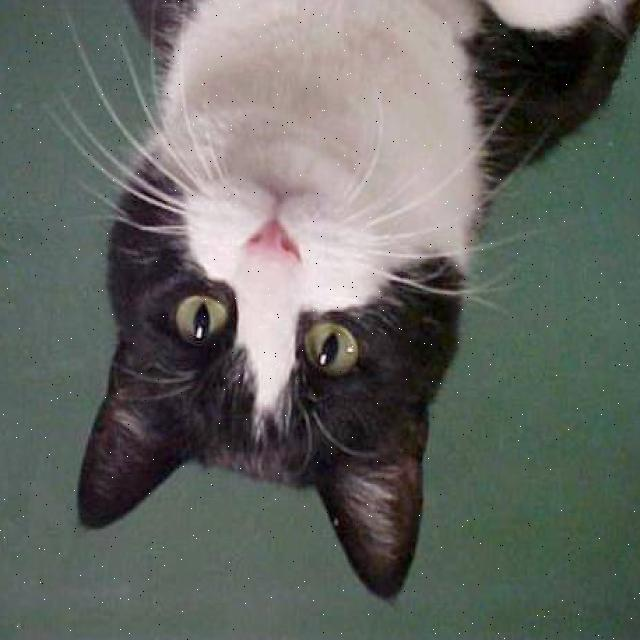Cat: (64, 67, 454, 624)
